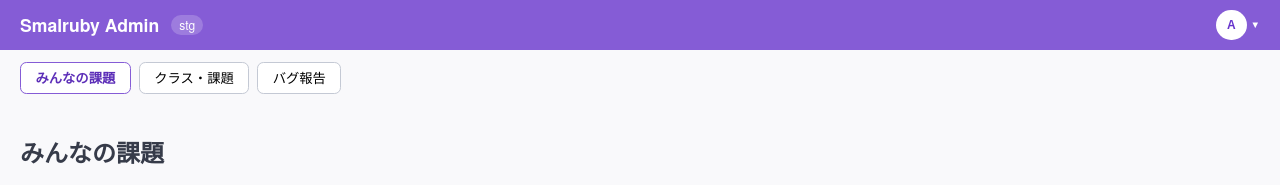
Test: App auth flow › the section nav switches between management views (issue #1084)
This screenshot has width=1280, height=185.
Check: the heading "みんなの課題" is shown, box [20,135,164,169]
Click the button with test id "admin-nav-classrooms" at coordinates (194, 78), box [139,62,249,94]
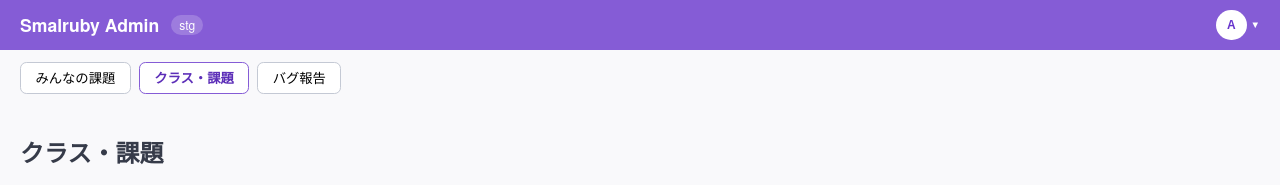
Check: the heading "クラス・課題" is shown, box [20,135,164,169]
Click the button with test id "admin-nav-shared" at coordinates (75, 78), box [20,62,131,94]
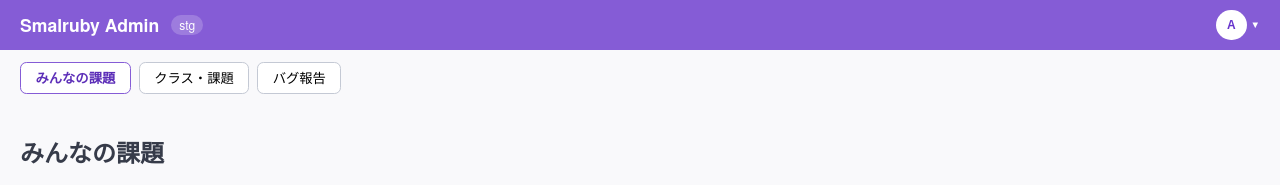
Check: the heading "みんなの課題" is shown, box [20,135,164,169]
